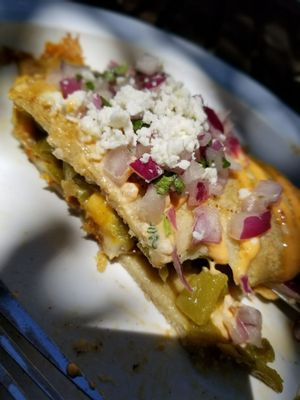curry: (155, 173, 185, 196)
